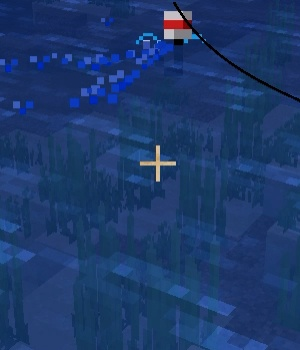up: (153, 6, 201, 77)
